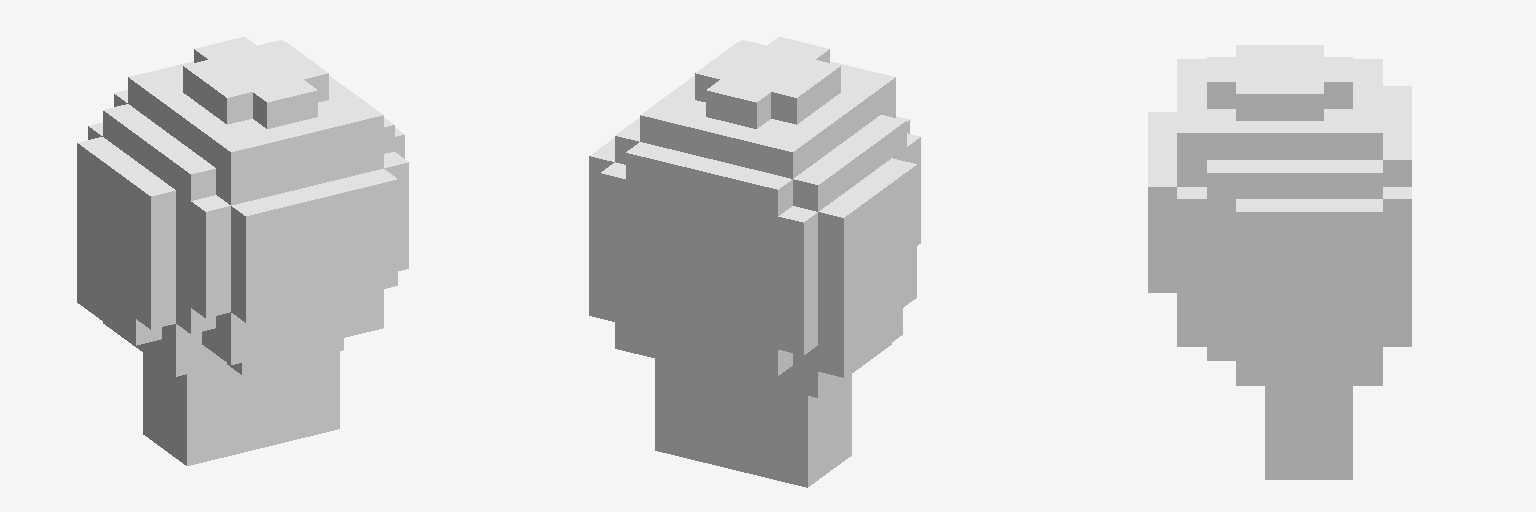
The model's file is comcapacete.obj.
3 renders of one model, left to right at view 1: azimuth 30°, elevation 25°; view 2: azimuth 150°, elevation 25°; view 3: azimuth 270°, elevation 25°, orthographic.
Visible parts, largest first — view 1: ObjObject; view 2: ObjObject; view 3: ObjObject.
Part boxes in pixels (x1,y1,x2,y2): ObjObject: (77, 37, 408, 465); ObjObject: (589, 37, 920, 487); ObjObject: (1148, 45, 1411, 479).
Bounding box in the file's own units: 1 × 1.4 × 0.9.